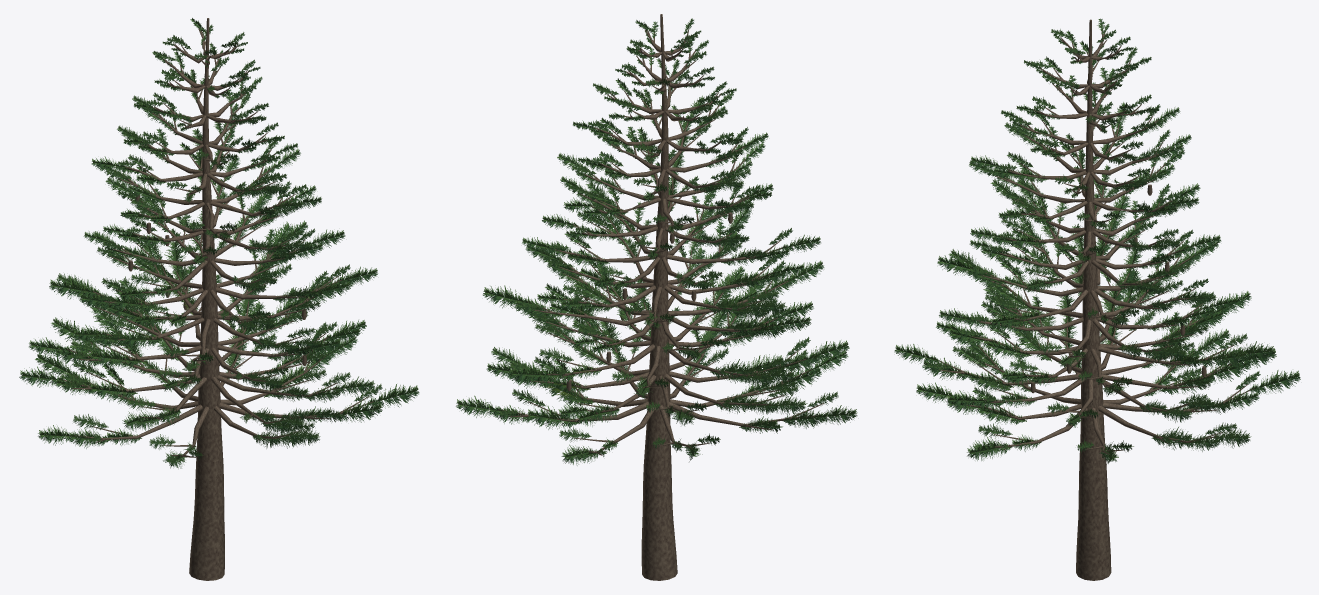
File: PINE0_local.glb
3 views of the same model, side by side, from view 1: azimuth 30°, elevation 25°; view 2: azimuth 150°, elevation 25°; view 3: azimuth 270°, elevation 25° (orthographic).
Visible parts, largest first — view 1: Trunk_Main_10m_Bark, NeedleClusters_00_AlphaMask, NeedleClusters_01_AlphaMask, NeedleClusters_04_AlphaMask, NeedleClusters_02_AlphaMask, NeedleClusters_03_AlphaMask, NeedleClusters_05_AlphaMask, NeedleClusters_06_AlphaMask, NeedleClusters_07_AlphaMask, NeedleClusters_08_AlphaMask, Branches_00_Z3.05m_Bark, Branches_01_Z3.57m_Bark (+14 smaller); view 2: NeedleClusters_00_AlphaMask, Trunk_Main_10m_Bark, NeedleClusters_01_AlphaMask, NeedleClusters_03_AlphaMask, NeedleClusters_02_AlphaMask, NeedleClusters_04_AlphaMask, NeedleClusters_05_AlphaMask, NeedleClusters_07_AlphaMask, NeedleClusters_06_AlphaMask, Branches_00_Z3.05m_Bark, NeedleClusters_08_AlphaMask, Branches_01_Z3.57m_Bark (+14 smaller); view 3: NeedleClusters_00_AlphaMask, Trunk_Main_10m_Bark, NeedleClusters_01_AlphaMask, NeedleClusters_02_AlphaMask, NeedleClusters_04_AlphaMask, NeedleClusters_03_AlphaMask, NeedleClusters_05_AlphaMask, NeedleClusters_06_AlphaMask, NeedleClusters_08_AlphaMask, NeedleClusters_07_AlphaMask, Branches_00_Z3.05m_Bark, Branches_01_Z3.57m_Bark (+14 smaller).
Part boxes in pixels (bbox=[...]): Trunk_Main_10m_Bark: bbox=[189, 18, 224, 580]; NeedleClusters_00_AlphaMask: bbox=[35, 292, 419, 468]; NeedleClusters_01_AlphaMask: bbox=[19, 276, 374, 436]; NeedleClusters_04_AlphaMask: bbox=[49, 211, 377, 332]; NeedleClusters_02_AlphaMask: bbox=[29, 241, 359, 392]; NeedleClusters_03_AlphaMask: bbox=[57, 221, 358, 374]; NeedleClusters_05_AlphaMask: bbox=[83, 189, 345, 302]; NeedleClusters_06_AlphaMask: bbox=[103, 154, 316, 266]; NeedleClusters_07_AlphaMask: bbox=[95, 128, 321, 240]; NeedleClusters_08_AlphaMask: bbox=[91, 122, 297, 202]; Branches_00_Z3.05m_Bark: bbox=[75, 322, 373, 457]; Branches_01_Z3.57m_Bark: bbox=[59, 301, 337, 424]; NeedleClusters_00_AlphaMask: bbox=[456, 294, 857, 465]; Trunk_Main_10m_Bark: bbox=[641, 14, 677, 580]; NeedleClusters_01_AlphaMask: bbox=[486, 274, 849, 426]; NeedleClusters_03_AlphaMask: bbox=[483, 229, 824, 360]; NeedleClusters_02_AlphaMask: bbox=[508, 262, 813, 399]; NeedleClusters_04_AlphaMask: bbox=[525, 196, 804, 330]; NeedleClusters_05_AlphaMask: bbox=[522, 180, 820, 290]; NeedleClusters_07_AlphaMask: bbox=[557, 127, 771, 233]; NeedleClusters_06_AlphaMask: bbox=[542, 153, 773, 260]; Branches_00_Z3.05m_Bark: bbox=[498, 324, 823, 455]; NeedleClusters_08_AlphaMask: bbox=[578, 95, 768, 203]; Branches_01_Z3.57m_Bark: bbox=[530, 302, 806, 414]; NeedleClusters_00_AlphaMask: bbox=[916, 290, 1300, 463]; Trunk_Main_10m_Bark: bbox=[1076, 19, 1111, 580]; NeedleClusters_01_AlphaMask: bbox=[894, 269, 1276, 427]; NeedleClusters_02_AlphaMask: bbox=[936, 249, 1275, 396]; NeedleClusters_04_AlphaMask: bbox=[937, 194, 1218, 330]; NeedleClusters_03_AlphaMask: bbox=[939, 223, 1237, 368]; NeedleClusters_05_AlphaMask: bbox=[969, 178, 1221, 295]; NeedleClusters_06_AlphaMask: bbox=[970, 164, 1200, 262]; NeedleClusters_08_AlphaMask: bbox=[970, 102, 1191, 198]; NeedleClusters_07_AlphaMask: bbox=[969, 133, 1199, 229]; Branches_00_Z3.05m_Bark: bbox=[966, 318, 1254, 454]; Branches_01_Z3.57m_Bark: bbox=[933, 298, 1233, 417].
Size of the model in its own units: 6.52 by 10.01 by 6.78.
Materials: 3 (3 with a texture image).
